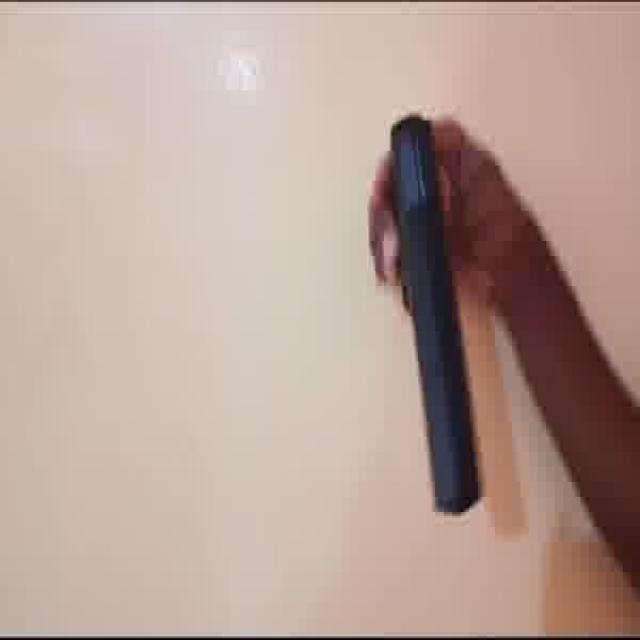weapon: (368, 112, 492, 530)
